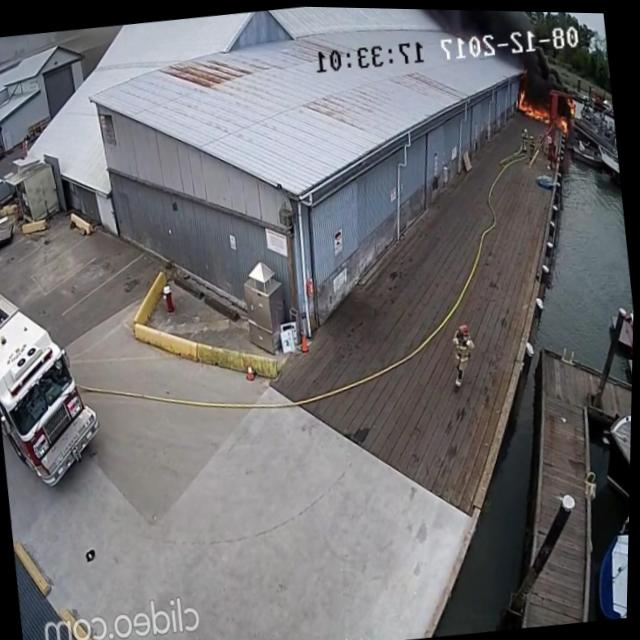fire: (514, 76, 552, 126), (553, 92, 583, 135)
